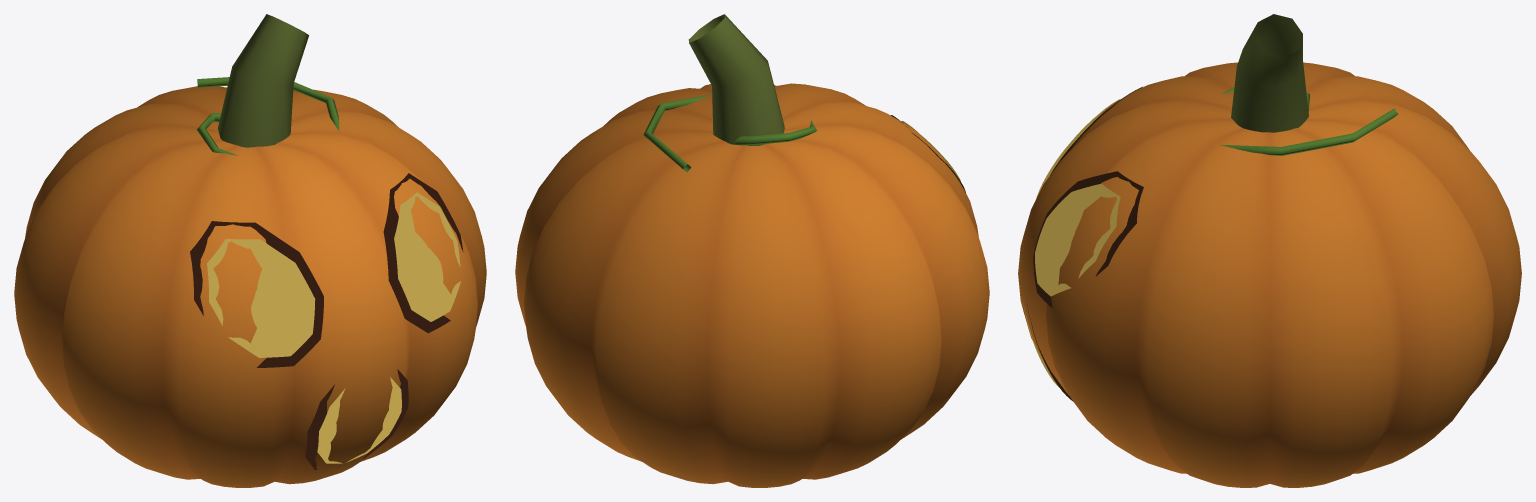
File: jack_o_lantern_b.glb
3 views of the same model, side by side, from view 1: azimuth 30°, elevation 25°; view 2: azimuth 150°, elevation 25°; view 3: azimuth 270°, elevation 25° (orthographic). The views are drawn at different scales.
Parts seen in each view (by area): view 1: jack_o_lantern_b_main, jack_o_lantern_b_glow; view 2: jack_o_lantern_b_main; view 3: jack_o_lantern_b_main, jack_o_lantern_b_glow.
Part boxes in pixels (left/top/right/bottom): jack_o_lantern_b_main: left=14, top=14, right=486, bottom=487; jack_o_lantern_b_glow: left=207, top=192, right=460, bottom=463; jack_o_lantern_b_main: left=515, top=14, right=989, bottom=487; jack_o_lantern_b_main: left=1018, top=14, right=1521, bottom=487; jack_o_lantern_b_glow: left=1023, top=99, right=1120, bottom=387.
Bounding box in the file's own units: 0.5832 × 0.5883 × 0.6.
